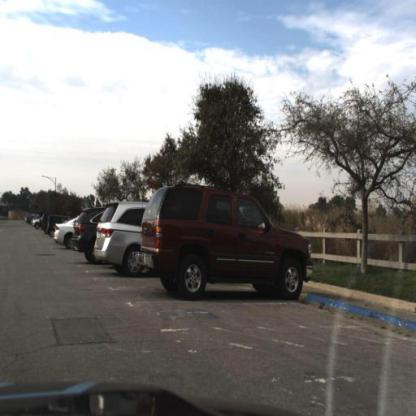car: (140, 175, 310, 308), (91, 202, 149, 279), (69, 208, 105, 267), (54, 218, 75, 254), (46, 213, 59, 239)
